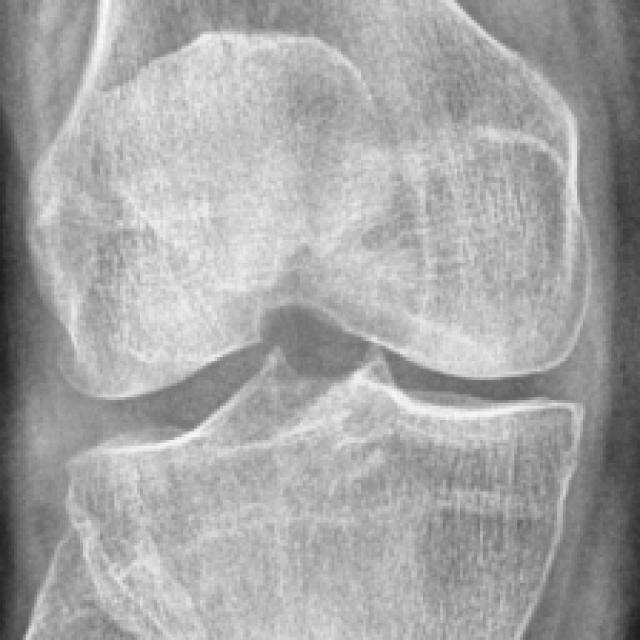femur: (23, 1, 589, 400)
tibia: (66, 349, 587, 637)
